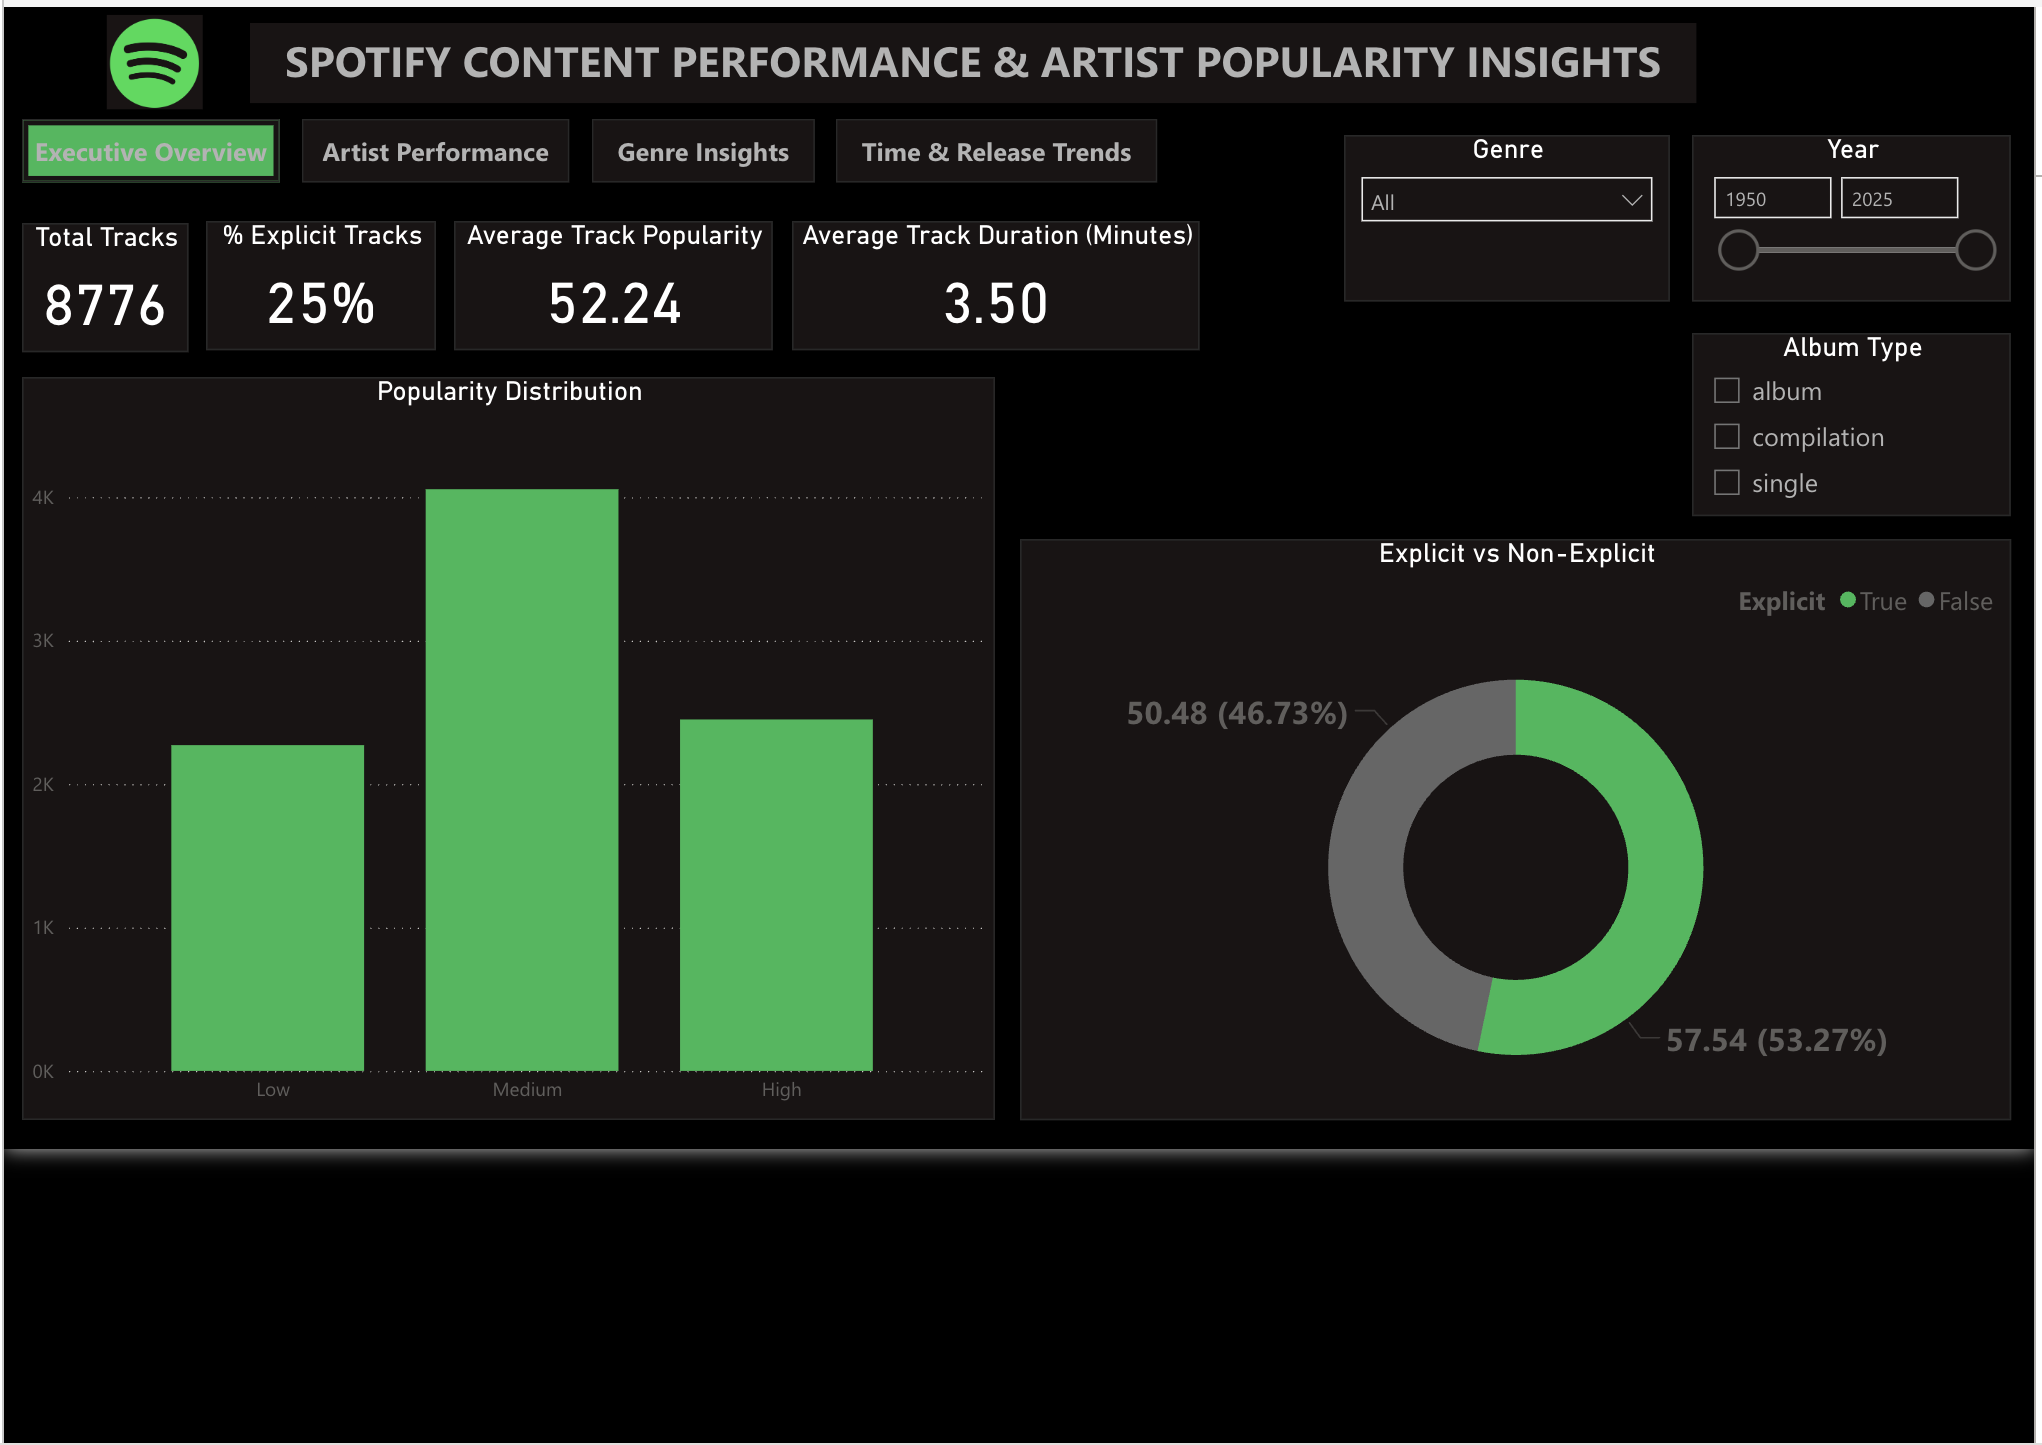

Layout of this report page (visuals, bound fields, positions):
{"tool":"powerbi","page":{"name":"Executive Overview","canvas":[1280,720],"ordinal":0},"visuals":[{"type":"card","title":"Total Tracks","fields":{"Values":["_Measures.Total Tracks"]},"box":[11.8,136,104.9,81.3],"z":0},{"type":"slicer","title":"Album Type","fields":{"Values":["dim_album.album_type"]},"box":[1064.2,205.5,201,115.3],"z":1000},{"type":"slicer","title":"Year","fields":{"Values":["dim_date.Year"]},"box":[1064.2,81.3,201,104.9],"z":2000},{"type":"slicer","title":"Genre","fields":{"Values":["bridge_artist_genres.genre_group"]},"box":[845.5,81.3,205.5,104.9],"z":3000},{"type":"card","title":"% Explicit Tracks","fields":{"Values":["_Measures.Explicit Track %"]},"box":[127.1,134.5,144.8,81.3],"z":4000},{"type":"card","title":"Average Track Popularity","fields":{"Values":["_Measures.Avg Track Popularity"]},"box":[283.8,134.5,201,81.3],"z":5000},{"type":"card","title":"Average Track Duration (Minutes)","fields":{"Values":["_Measures.Avg Track Duration"]},"box":[498.1,134.5,257.2,81.3],"z":6000},{"type":"columnChart","title":"Popularity Distribution","fields":{"Category":["fact_tracks.popularity_band"],"Y":["_Measures.Total Tracks"]},"box":[11.8,233.5,613.4,468.5],"z":7000},{"type":"donutChart","title":"Explicit vs Non-Explicit ","fields":{"Category":["fact_tracks.explicit"],"Y":["_Measures.Avg Track Popularity"]},"box":[640,335.5,625.2,366.6],"z":8000},{"type":"actionButton","box":[187.7,70.9,168.5,39.9],"z":9000},{"type":"actionButton","box":[371,70.9,140.4,39.9],"z":10000},{"type":"actionButton","box":[524.7,70.9,202.5,39.9],"z":11000},{"type":"actionButton","box":[11.8,70.9,162.6,39.9],"z":12000},{"type":"textbox","box":[155.2,10.3,912,50.3],"z":13000},{"type":"image","box":[35.5,0,119.7,69.5],"z":14000}]}

Visuals, with their boxes on the page's 1280x720 design canvas (x1, y1, x2, y2). These are canvas units, not pixel positions in the 2042x1445 screenshot, which may show the page scaled, cropped or inside an application window:
"Total Tracks" card: rect(12, 136, 117, 217)
"Album Type" slicer: rect(1064, 206, 1265, 321)
"Year" slicer: rect(1064, 81, 1265, 186)
"Genre" slicer: rect(846, 81, 1051, 186)
"% Explicit Tracks" card: rect(127, 134, 272, 216)
"Average Track Popularity" card: rect(284, 134, 485, 216)
"Average Track Duration (Minutes)" card: rect(498, 134, 755, 216)
"Popularity Distribution" columnChart: rect(12, 234, 625, 702)
"Explicit vs Non-Explicit " donutChart: rect(640, 336, 1265, 702)
actionButton: rect(188, 71, 356, 111)
actionButton: rect(371, 71, 511, 111)
actionButton: rect(525, 71, 727, 111)
actionButton: rect(12, 71, 174, 111)
textbox: rect(155, 10, 1067, 61)
image: rect(36, 0, 155, 70)
